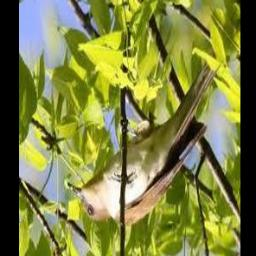Cuckoo: (67, 42, 221, 224)
